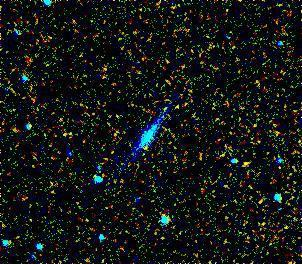star: (225, 150, 255, 180)
